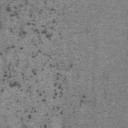oxide scale of temperature system: (0, 0, 73, 116), (16, 98, 36, 128), (0, 45, 24, 57), (78, 94, 87, 108), (62, 122, 66, 128), (43, 124, 48, 128)
